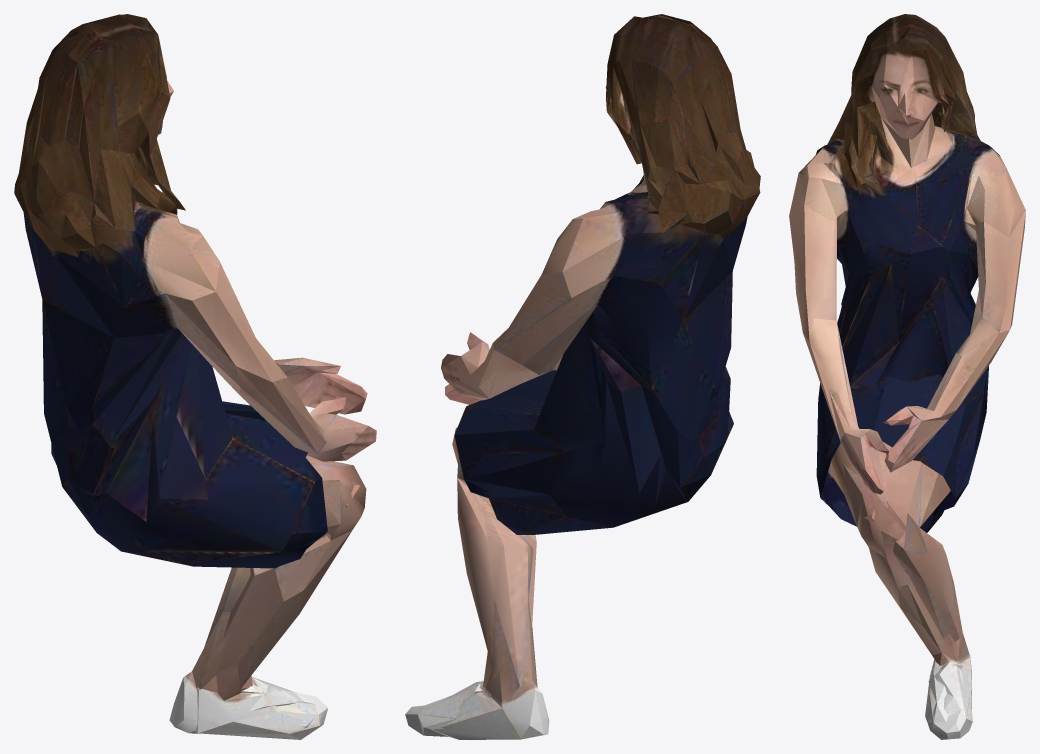
The model's file is crowd-sp-2.glb.
3 renders of one model, left to right at view 1: azimuth 30°, elevation 25°; view 2: azimuth 150°, elevation 25°; view 3: azimuth 270°, elevation 25°, orthographic. The views are drawn at different scales.
Parts seen in each view (by area): view 1: char1; view 2: char1; view 3: char1.
Boxes of the visible parts, bbox=[...] form: char1: bbox=[14, 14, 376, 739]; char1: bbox=[405, 14, 760, 739]; char1: bbox=[789, 14, 1025, 739].
Bounding box in the file's own units: 0.5991 × 1.35 × 0.4607.
1 material, 1 textured.
